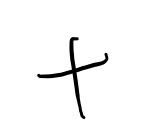plus: (37, 37, 109, 119)
